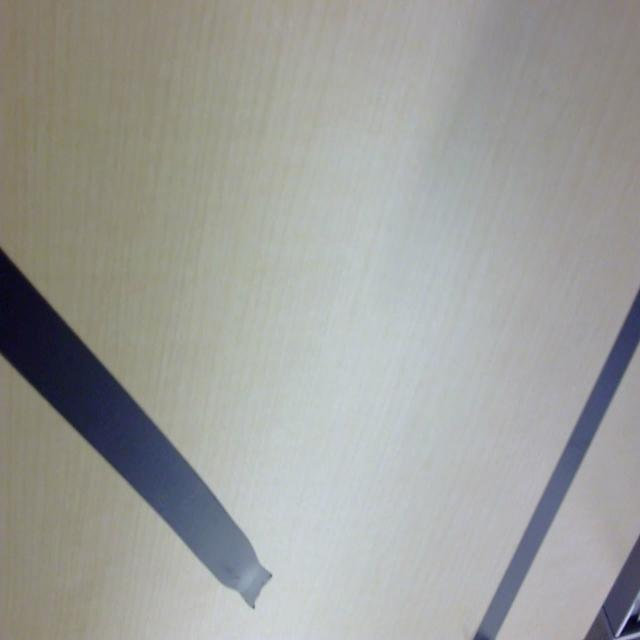tape: (0, 246, 272, 610), (471, 284, 640, 640)
